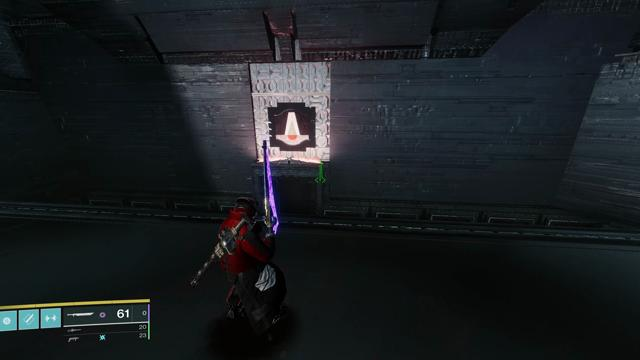enter: (275, 109, 310, 146)
